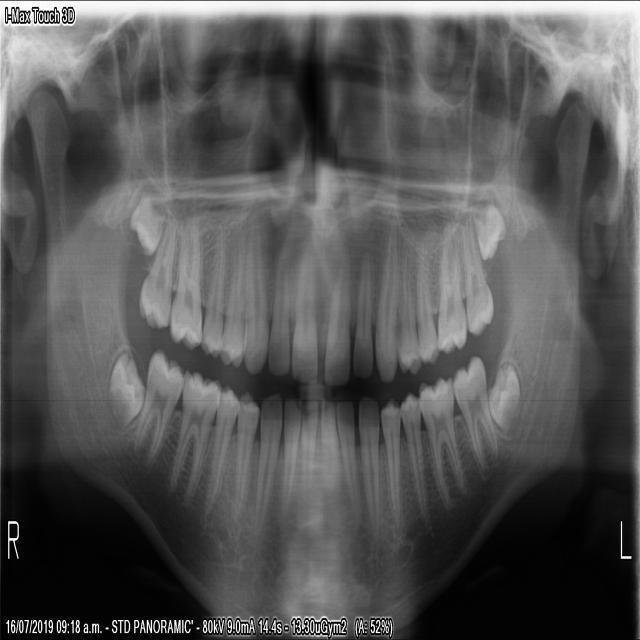LCD: (355, 389, 383, 527)
LCU: (372, 229, 400, 386)
LID: (332, 387, 363, 519), (316, 389, 338, 499)
LIU: (320, 253, 351, 392), (349, 249, 375, 380)
LMD: (414, 366, 465, 510), (450, 349, 499, 487), (484, 351, 524, 440)
LMU: (456, 213, 495, 340), (434, 222, 468, 357), (470, 193, 507, 264)
LPMD: (395, 384, 431, 541), (376, 396, 402, 530)
LPMU: (393, 242, 421, 377), (413, 234, 439, 369)
RCD: (251, 383, 283, 531)
RCU: (240, 219, 270, 378)
RID: (279, 390, 301, 523), (299, 392, 320, 514)
RIU: (288, 240, 318, 386), (265, 244, 290, 380)
RMD: (164, 363, 223, 513), (130, 339, 185, 470), (104, 345, 143, 436)
RMU: (136, 206, 178, 335), (165, 207, 202, 352), (124, 182, 166, 264)
RPMD: (201, 378, 240, 522), (227, 384, 259, 536)
RPMU: (215, 223, 247, 369), (199, 221, 227, 362)
